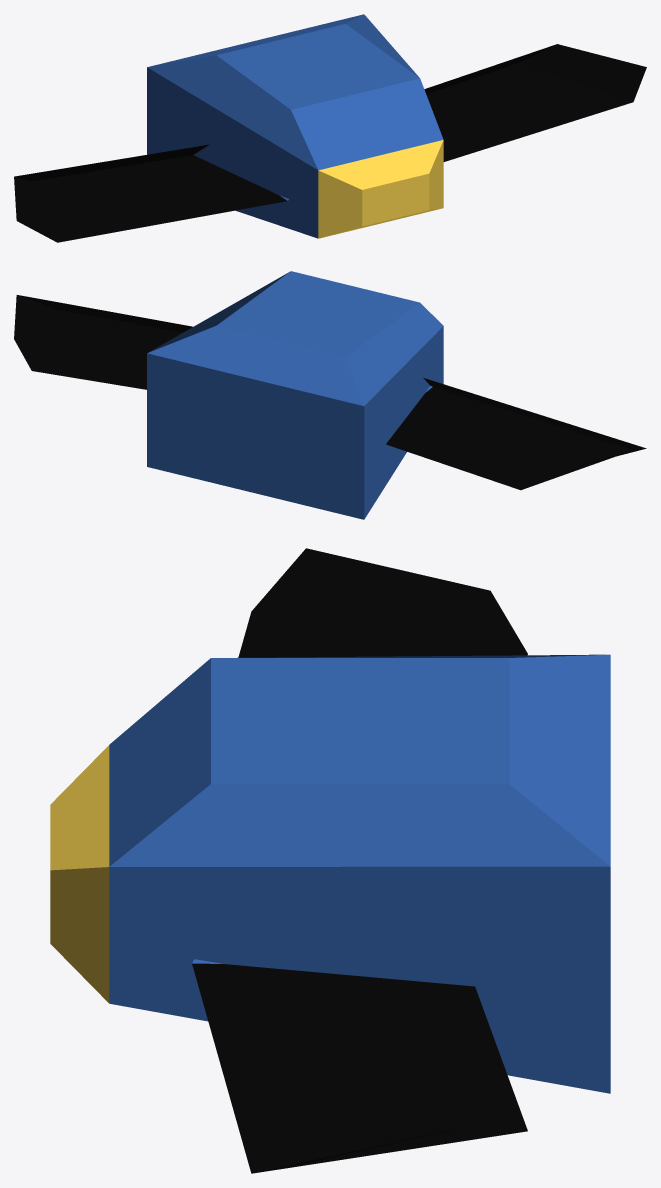
File: Drone.fbx
The picture shows the model from 3 angles, top to bottom: view 1: azimuth 30°, elevation 25°; view 2: azimuth 150°, elevation 25°; view 3: azimuth 270°, elevation 25°; orthographic projection. The views are drawn at different scales.
Visible parts, largest first — view 1: Drone; view 2: Drone; view 3: Drone.
Boxes of the visible parts, x1,y1,x2,y2 form: Drone: [14, 14, 646, 242]; Drone: [14, 271, 646, 519]; Drone: [50, 548, 610, 1173].
Bounding box in the file's own units: 581 × 117 × 224.
